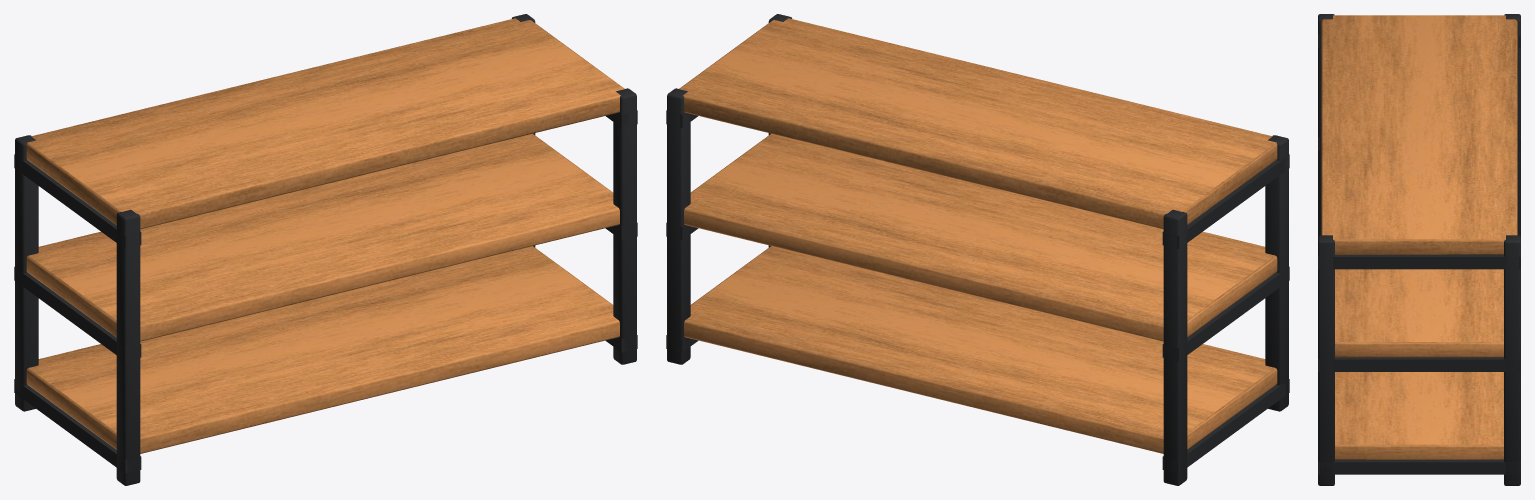
File: storage.shoe-rack.glb
The picture shows the model from 3 angles, left to right: view 1: azimuth 30°, elevation 25°; view 2: azimuth 150°, elevation 25°; view 3: azimuth 270°, elevation 25°; orthographic projection. The views are drawn at different scales.
Parts seen in each view (by area): view 1: storage.shoe-rack.001; view 2: storage.shoe-rack.001; view 3: storage.shoe-rack.001.
Boxes of the visible parts, x1,y1,x2,y2 form: storage.shoe-rack.001: (14, 14, 637, 485); storage.shoe-rack.001: (666, 14, 1289, 485); storage.shoe-rack.001: (1318, 14, 1520, 485).
Size of the model in its own units: 0.8 by 0.4 by 0.3.
Materials: 2 (1 with a texture image).
